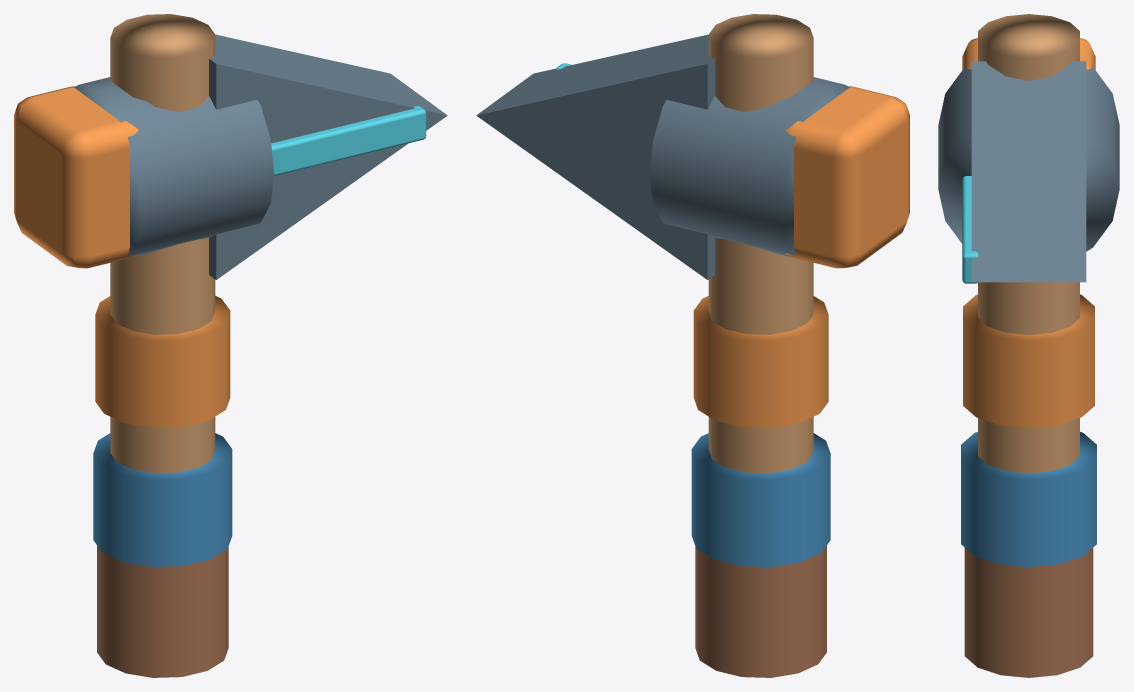
Rendered from axe.glb.
3 renders of one model, left to right at view 1: azimuth 30°, elevation 25°; view 2: azimuth 150°, elevation 25°; view 3: azimuth 270°, elevation 25°, orthographic.
Visible parts, largest first — view 1: t09_harvest_axe; view 2: t09_harvest_axe; view 3: t09_harvest_axe.
Part boxes in pixels (box(x1,y1,x2,y2)): t09_harvest_axe: box(14, 14, 447, 677); t09_harvest_axe: box(476, 14, 909, 677); t09_harvest_axe: box(938, 14, 1119, 677).
Bounding box in the file's own units: 0.46 × 0.71 × 0.19.
